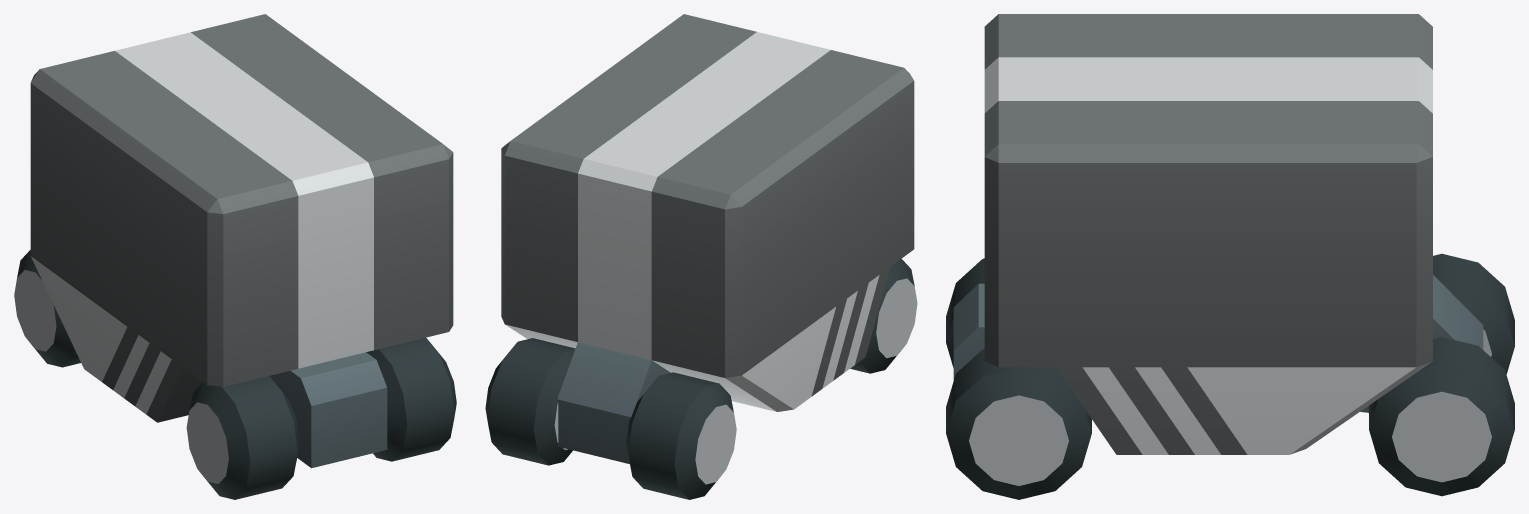
File: Delivery_drone_001.glb
3 views of the same model, side by side, from view 1: azimuth 30°, elevation 25°; view 2: azimuth 150°, elevation 25°; view 3: azimuth 270°, elevation 25° (orthographic). The views are drawn at different scales.
Parts seen in each view (by area): view 1: Delivery_drone_001; view 2: Delivery_drone_001; view 3: Delivery_drone_001.
Part boxes in pixels (x1,y1,x2,y2): Delivery_drone_001: [14, 14, 456, 499]; Delivery_drone_001: [485, 14, 917, 499]; Delivery_drone_001: [946, 14, 1514, 499].
Bounding box in the file's own units: 0.6 × 0.7126 × 1.01.
Materials: 1 (1 with a texture image).
